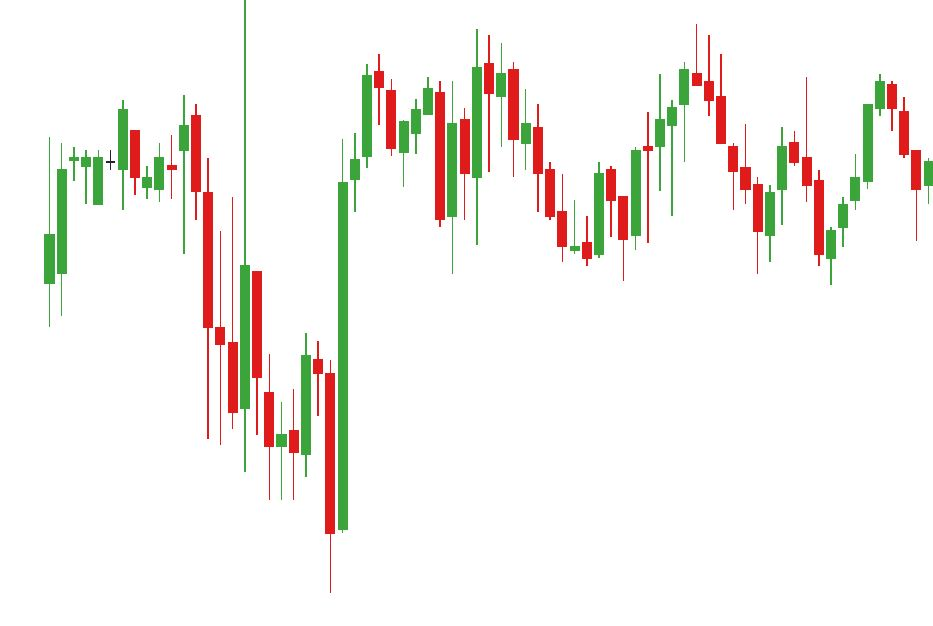sell: (470, 11, 703, 139), (801, 72, 900, 191)
